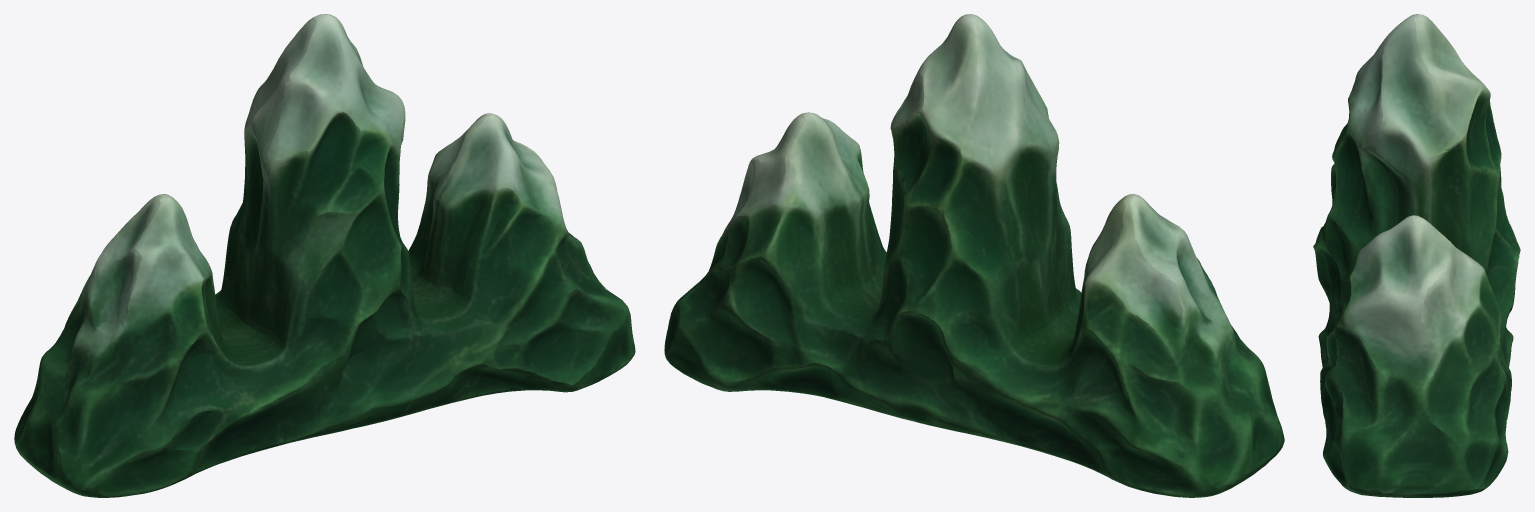
Rendered from shan.glb.
3 views of the same model, side by side, from view 1: azimuth 30°, elevation 25°; view 2: azimuth 150°, elevation 25°; view 3: azimuth 270°, elevation 25° (orthographic). The views are drawn at different scales.
Parts seen in each view (by area): view 1: world; view 2: world; view 3: world.
Part boxes in pixels (bbox=[...]): world: bbox=[14, 14, 635, 497]; world: bbox=[664, 14, 1284, 497]; world: bbox=[1313, 14, 1520, 497].
Size of the model in its own units: 0.32 by 0.2127 by 0.1091.
Materials: 1 (1 with a texture image).
